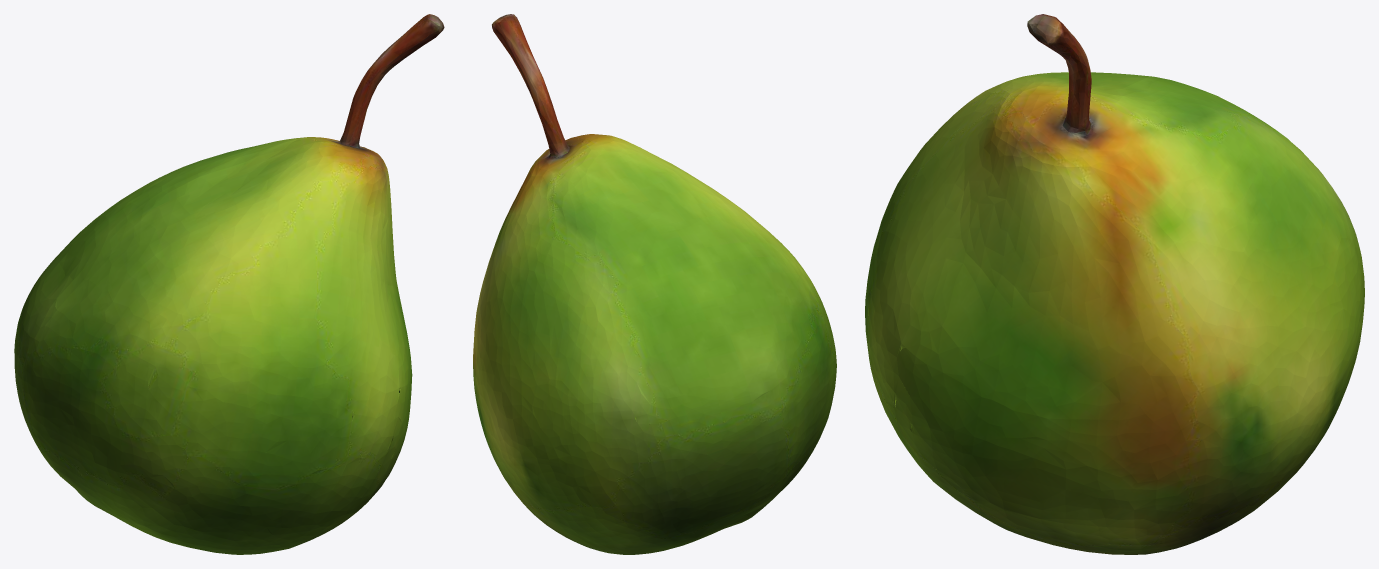
Rendered from green_pear_in_the_background_right_000.glb.
The picture shows the model from 3 angles, left to right: view 1: azimuth 30°, elevation 25°; view 2: azimuth 150°, elevation 25°; view 3: azimuth 270°, elevation 25°; orthographic projection. The views are drawn at different scales.
Parts seen in each view (by area): view 1: green_pear_in_the_background_right_000.obj; view 2: green_pear_in_the_background_right_000.obj; view 3: green_pear_in_the_background_right_000.obj.
Boxes of the visible parts, bbox=[...] form: green_pear_in_the_background_right_000.obj: bbox=[14, 14, 444, 554]; green_pear_in_the_background_right_000.obj: bbox=[473, 14, 836, 554]; green_pear_in_the_background_right_000.obj: bbox=[865, 14, 1364, 554].
Bounding box in the file's own units: 0.2921 × 0.3761 × 0.2745.
Materials: 1 (1 with a texture image).
